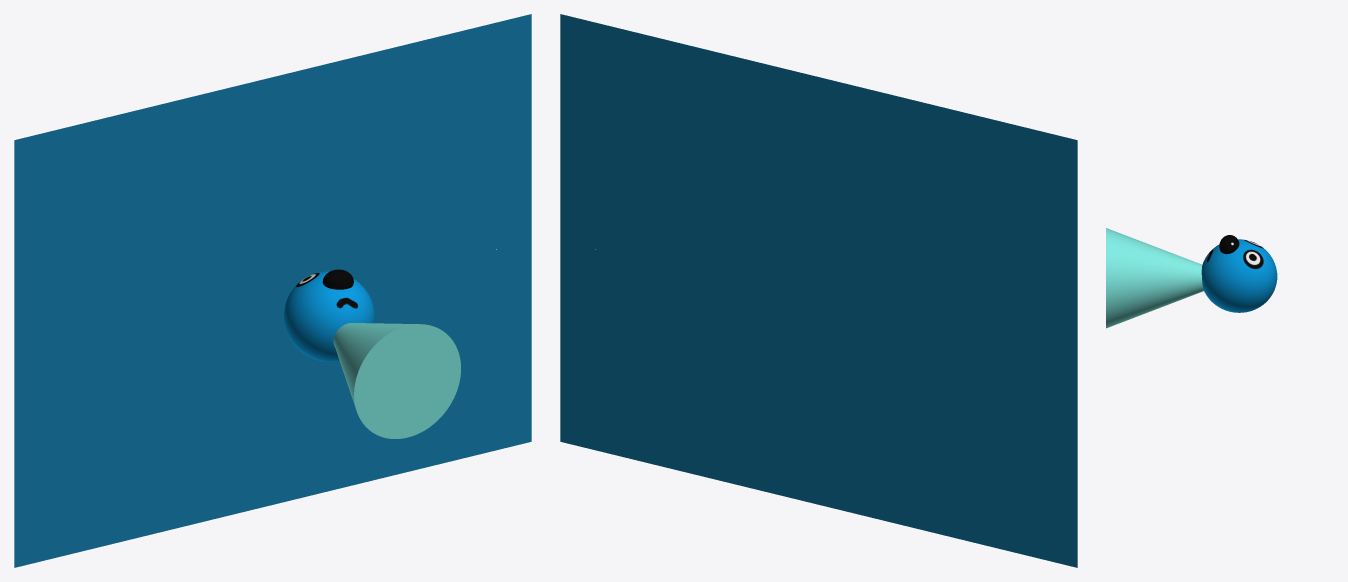
The model's file is boy.fbx.
3 views of the same model, side by side, from view 1: azimuth 30°, elevation 25°; view 2: azimuth 150°, elevation 25°; view 3: azimuth 270°, elevation 25° (orthographic). The views are drawn at different scales.
Visible parts, largest first — view 1: root, node_id2025 (×2); view 2: root; view 3: node_id2025 (×3).
Boxes of the visible parts, x1,y1,x2,y2 form: root: [14, 14, 531, 567]; node_id2025 (×2): [284, 271, 460, 438]; root: [560, 14, 1077, 567]; node_id2025 (×3): [1106, 228, 1277, 328].
Size of the model in its own units: 0.696 by 0.55 by 0.3261.
4 materials, 4 textured.
